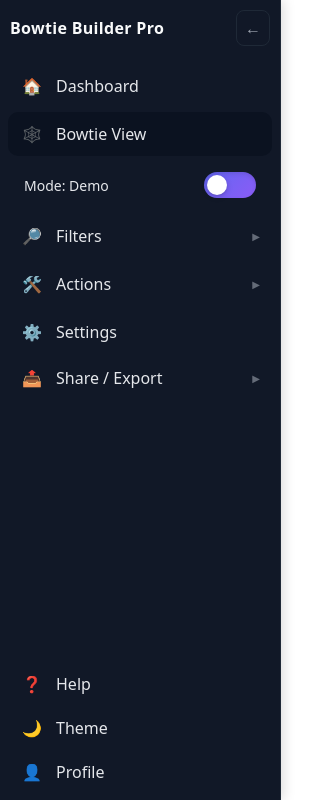
Test: Sidebar inline dropdown panels › opens export dropdown when export button is clicked
Click the button with aria-label "open export panel" at (140, 378), box [8, 358, 272, 398]
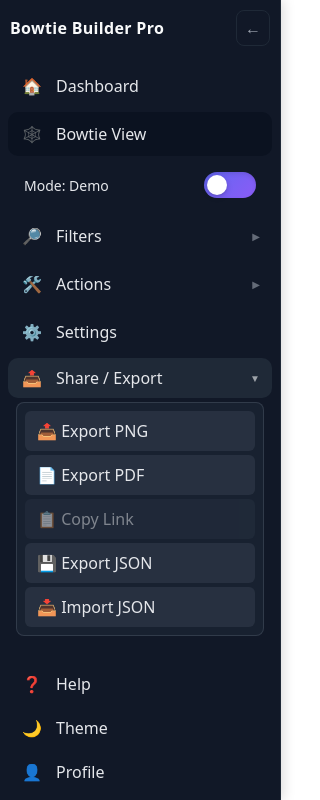
Now the element "Export" is shown, box [16, 402, 264, 636]
Now the button with aria-label "open export panel" is expanded, box [8, 358, 272, 398]
